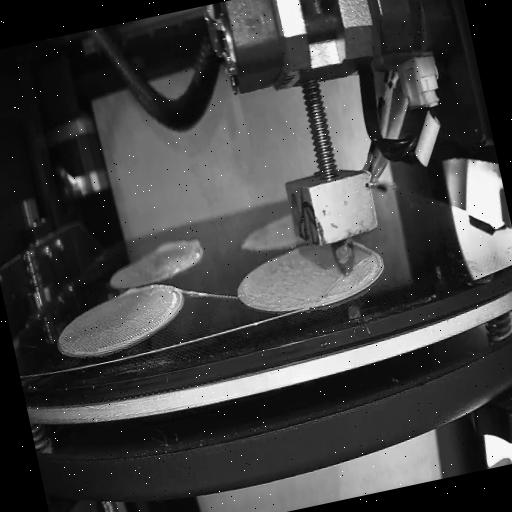over_extrusion: (152, 233, 206, 263), (350, 236, 374, 258), (348, 256, 380, 272), (352, 272, 377, 288), (118, 282, 140, 298)
